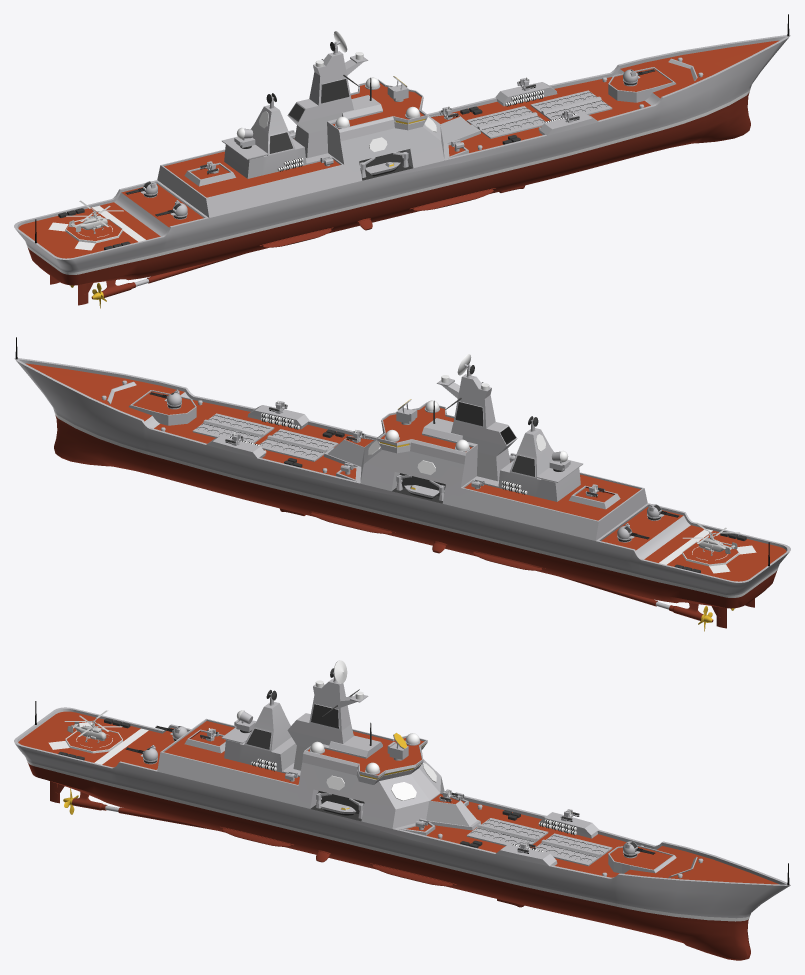
File: admiral_nakhimov_2035.glb
3 renders of one model, top to bottom at view 1: azimuth 30°, elevation 25°; view 2: azimuth 150°, elevation 25°; view 3: azimuth 330°, elevation 25°, orthographic.
Parts seen in each view (by area): view 1: Hull, MainTower, VLS, VLS.001, StarboardShaft, KA27main-FACES.001, AK-150.002, Fin.003; view 2: Hull, MainTower, VLS, VLS.001, StarboardShaft, AK-150.002, KA27main-FACES.001, Fin.003; view 3: Hull, MainTower, VLS.001, VLS, StarboardShaft, KA27main-FACES.001, Fin.003.
Part boxes in pixels (x1,y1,x2,y2): Hull: [14, 35, 790, 285]; MainTower: [287, 51, 368, 158]; VLS: [466, 106, 545, 138]; VLS.001: [530, 90, 612, 120]; StarboardShaft: [70, 254, 243, 308]; KA27main-FACES.001: [66, 200, 123, 233]; AK-150.002: [125, 181, 187, 219]; Fin.003: [409, 188, 496, 210]; Hull: [14, 358, 790, 608]; MainTower: [436, 374, 517, 481]; VLS: [259, 429, 338, 461]; VLS.001: [192, 413, 274, 443]; StarboardShaft: [561, 577, 734, 631]; AK-150.002: [617, 504, 679, 542]; KA27main-FACES.001: [682, 522, 739, 555]; Fin.003: [308, 511, 395, 533]; Hull: [14, 702, 790, 960]; MainTower: [287, 679, 368, 770]; VLS.001: [535, 833, 612, 866]; VLS: [466, 818, 548, 845]; StarboardShaft: [63, 788, 216, 830]; KA27main-FACES.001: [64, 710, 122, 743]; Fin.003: [369, 863, 456, 886].
Bounding box in the file's own units: 4.45 × 1.15 × 0.5304.
